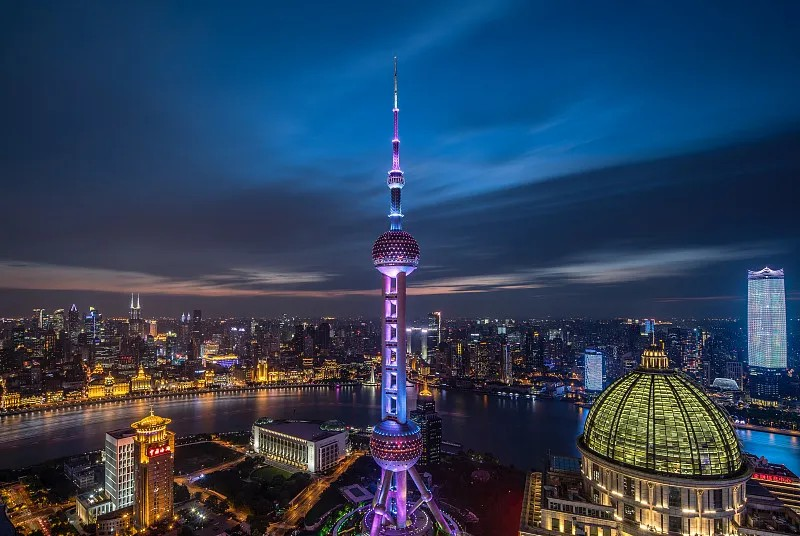Oriental: (370, 57, 451, 536)
